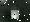person: (12, 8, 20, 19)
